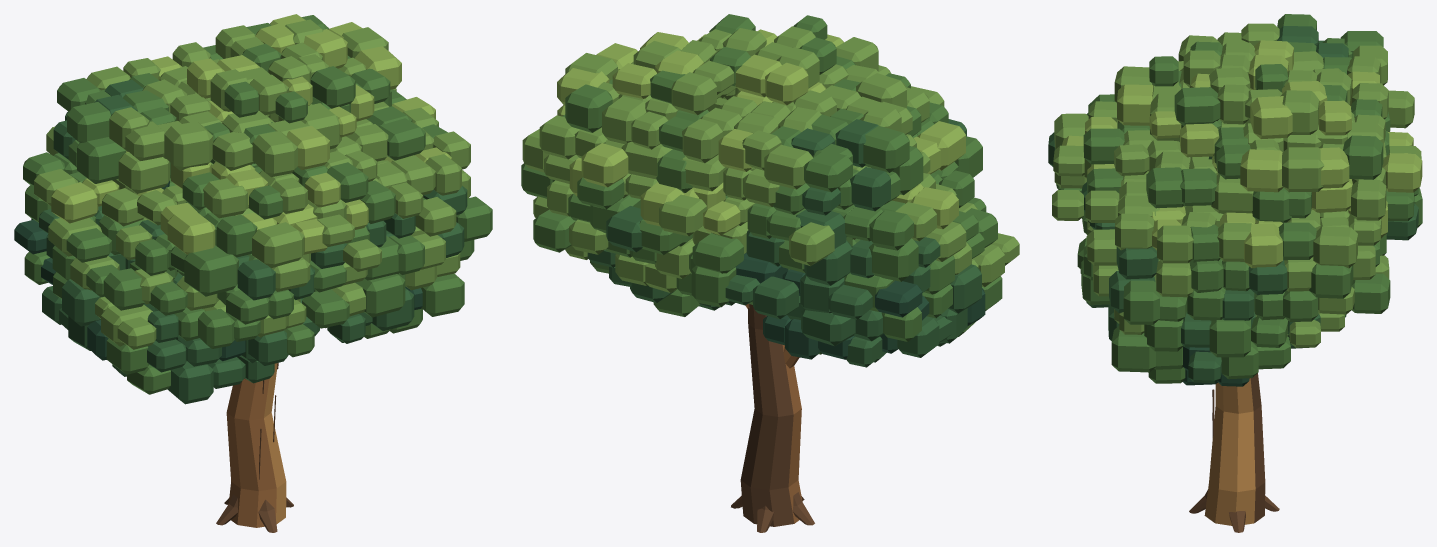
3 views of the same model, side by side, from view 1: azimuth 30°, elevation 25°; view 2: azimuth 150°, elevation 25°; view 3: azimuth 270°, elevation 25° (orthographic). The views are drawn at different scales.
Visible parts, largest first — view 1: Painted leaf clumps leaf_light, Painted leaf clumps leaf_green, Painted leaf clumps leaf_deep, Painted leaf clumps leaf_sun, Warm bent oak, Painted leaf clumps leaf_shadow; view 2: Painted leaf clumps leaf_light, Painted leaf clumps leaf_green, Painted leaf clumps leaf_deep, Painted leaf clumps leaf_sun, Warm bent oak, Painted leaf clumps leaf_shadow; view 3: Painted leaf clumps leaf_light, Painted leaf clumps leaf_green, Painted leaf clumps leaf_sun, Painted leaf clumps leaf_deep, Warm bent oak, Painted leaf clumps leaf_shadow.
Boxes of the visible parts, x1=… form: Painted leaf clumps leaf_light: x1=34, y1=19, x2=470, y2=349; Painted leaf clumps leaf_green: x1=23, y1=15, x2=492, y2=394; Painted leaf clumps leaf_deep: x1=31, y1=79, x2=467, y2=404; Painted leaf clumps leaf_sun: x1=51, y1=14, x2=451, y2=254; Warm bent oak: x1=226, y1=363, x2=286, y2=527; Painted leaf clumps leaf_shadow: x1=14, y1=180, x2=422, y2=361; Painted leaf clumps leaf_light: x1=522, y1=26, x2=1019, y2=292; Painted leaf clumps leaf_green: x1=521, y1=14, x2=1002, y2=354; Painted leaf clumps leaf_deep: x1=587, y1=119, x2=981, y2=367; Painted leaf clumps leaf_sun: x1=557, y1=29, x2=965, y2=235; Warm bent oak: x1=740, y1=304, x2=802, y2=526; Painted leaf clumps leaf_shadow: x1=735, y1=253, x2=985, y2=359; Painted leaf clumps leaf_light: x1=1052, y1=23, x2=1421, y2=347; Painted leaf clumps leaf_green: x1=1056, y1=14, x2=1422, y2=383; Painted leaf clumps leaf_sun: x1=1062, y1=40, x2=1422, y2=268; Painted leaf clumps leaf_deep: x1=1048, y1=26, x2=1418, y2=383; Warm bent oak: x1=1204, y1=373, x2=1265, y2=525; Painted leaf clumps leaf_shadow: x1=1183, y1=346, x2=1249, y2=386.
Bounding box in the file's own units: 4.67 × 5.28 × 3.92.
